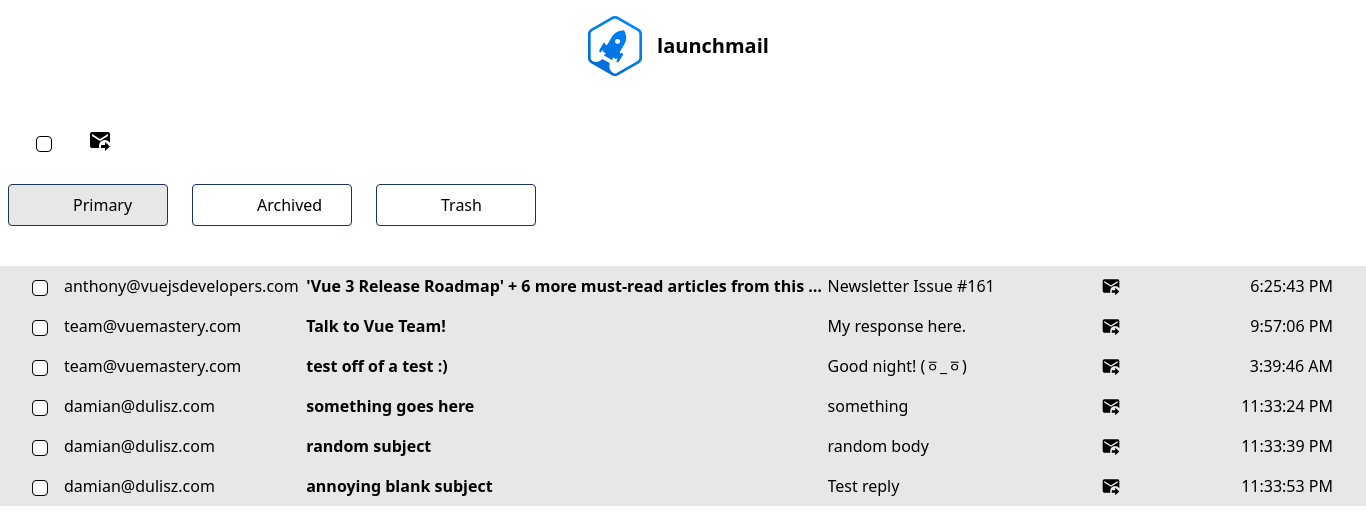
validate delete buttons in action menu when in Trash tab › Archive all
The width and height of the screenshot is (1366, 523).
Click the element with test id "tab-Archived" at {"x": 272, "y": 205}, box [192, 184, 352, 226]
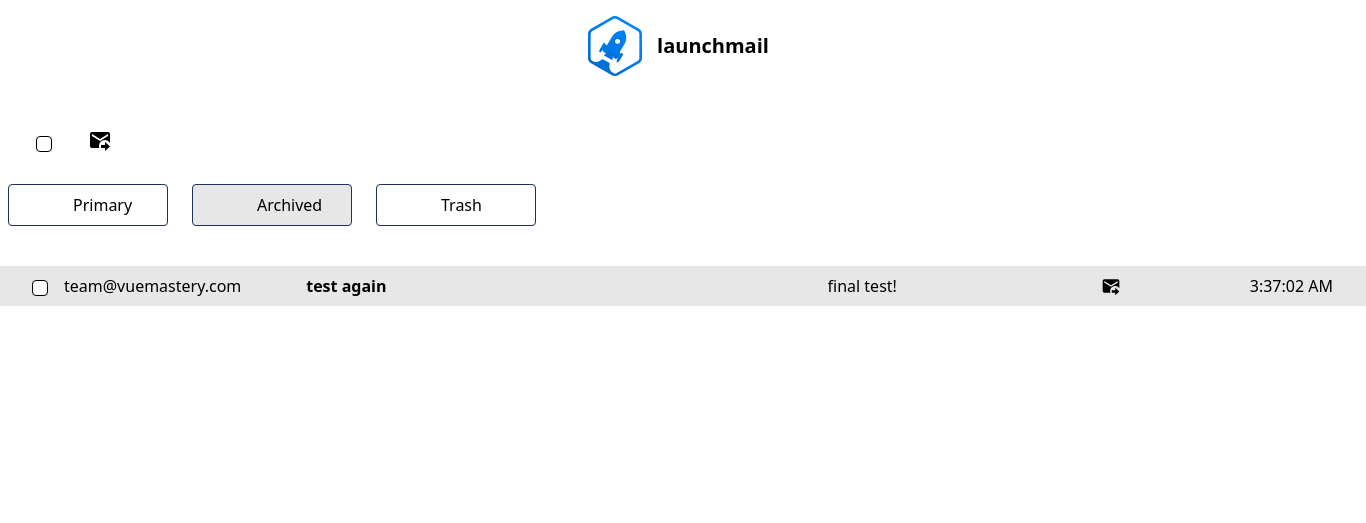
Click the 1st checkbox at {"x": 44, "y": 144}, box [36, 136, 52, 152]
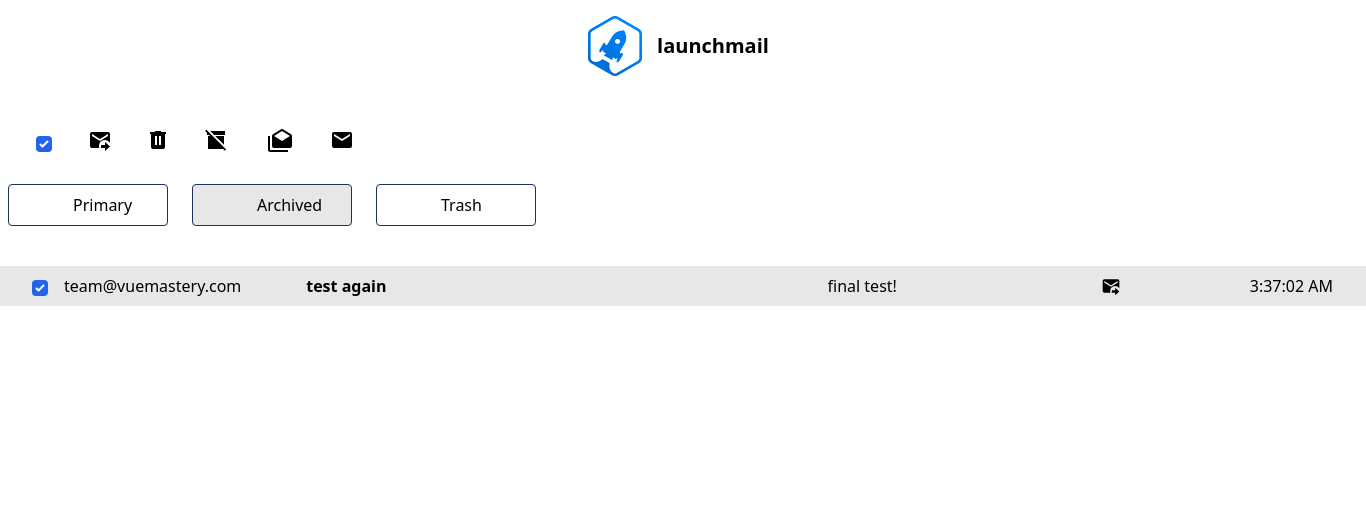
Click the element with test id "archive-button" at {"x": 216, "y": 140}, box [200, 124, 232, 156]
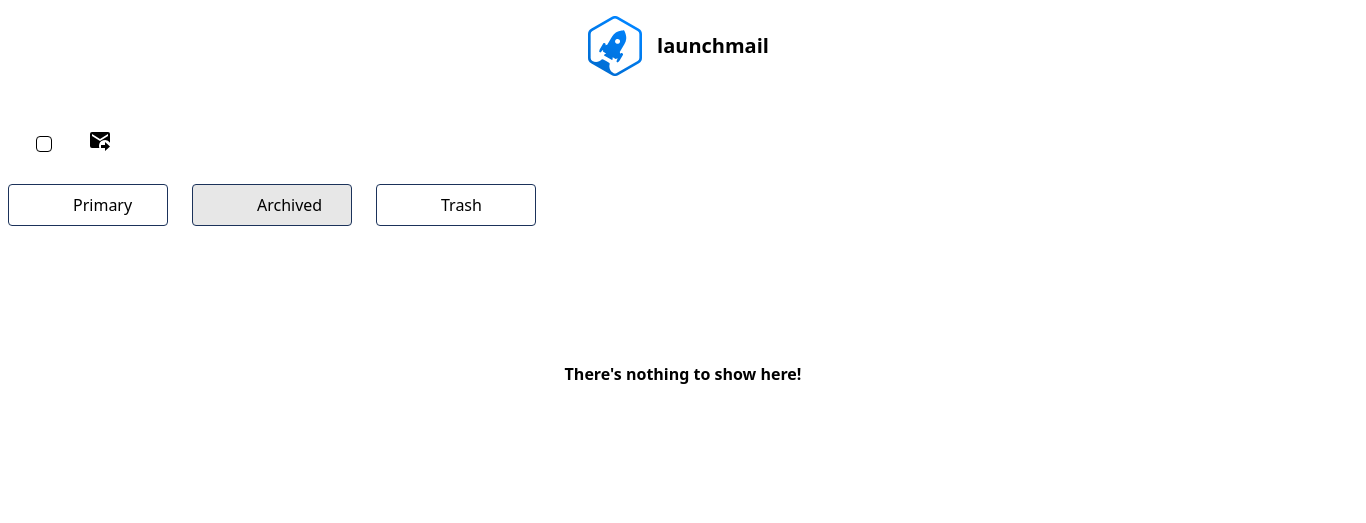
Expected: the number of checkboxes is 1, [36, 136, 52, 152]
